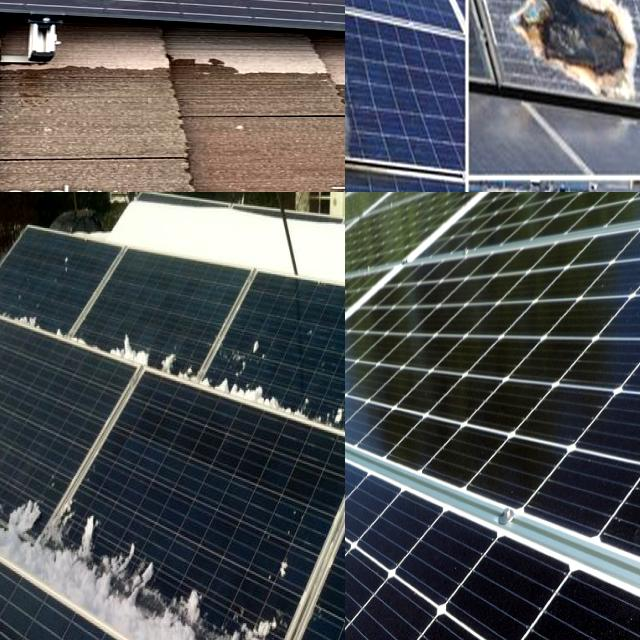crack: (389, 299, 574, 466), (519, 415, 640, 556), (476, 414, 563, 536), (368, 589, 515, 640), (345, 562, 425, 640), (345, 411, 374, 499)
dust: (198, 0, 269, 88), (287, 0, 339, 108)
panel: (46, 497, 292, 640), (0, 417, 66, 589), (219, 362, 345, 443), (86, 318, 215, 386), (0, 284, 71, 354)
shadow: (502, 0, 640, 108)
